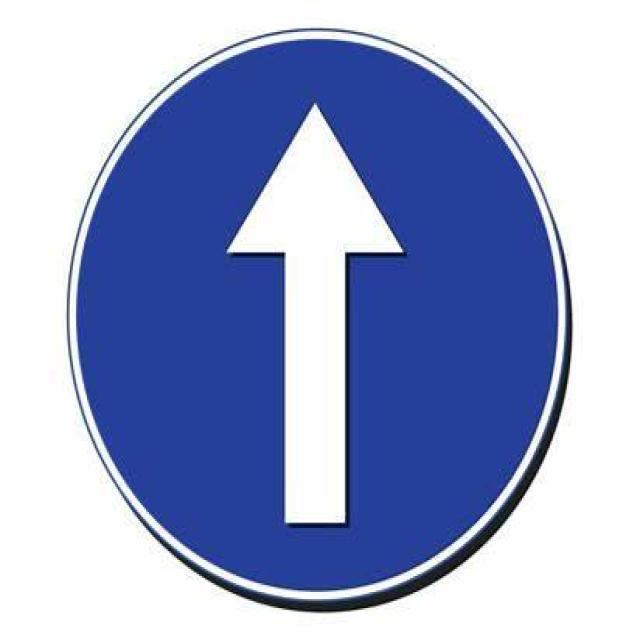compulsary ahead: (60, 24, 584, 618)
